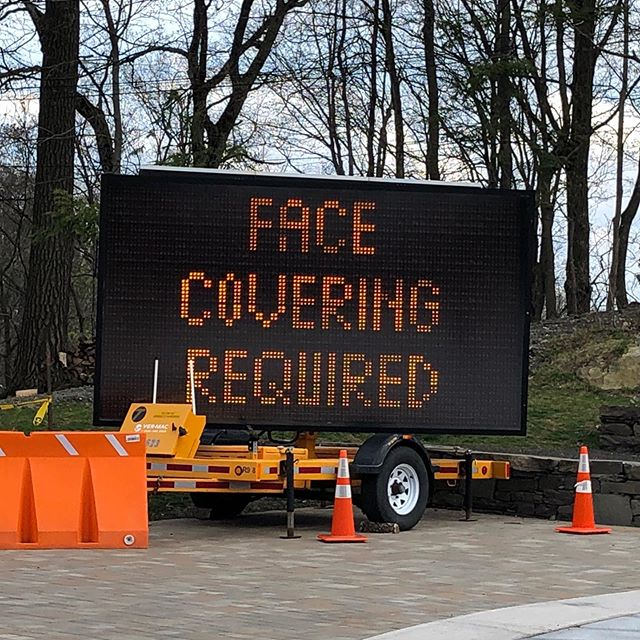sign: (99, 171, 525, 431)
traffic cone: (316, 446, 367, 546), (558, 437, 609, 537)
vegetation: (1, 1, 640, 192)
